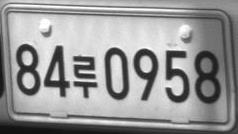0: (103, 46, 130, 101)
4: (43, 44, 70, 98)
5: (164, 49, 190, 103)
8: (193, 49, 221, 104), (15, 42, 41, 96)
9: (133, 47, 159, 101)
루: (71, 54, 97, 98)
